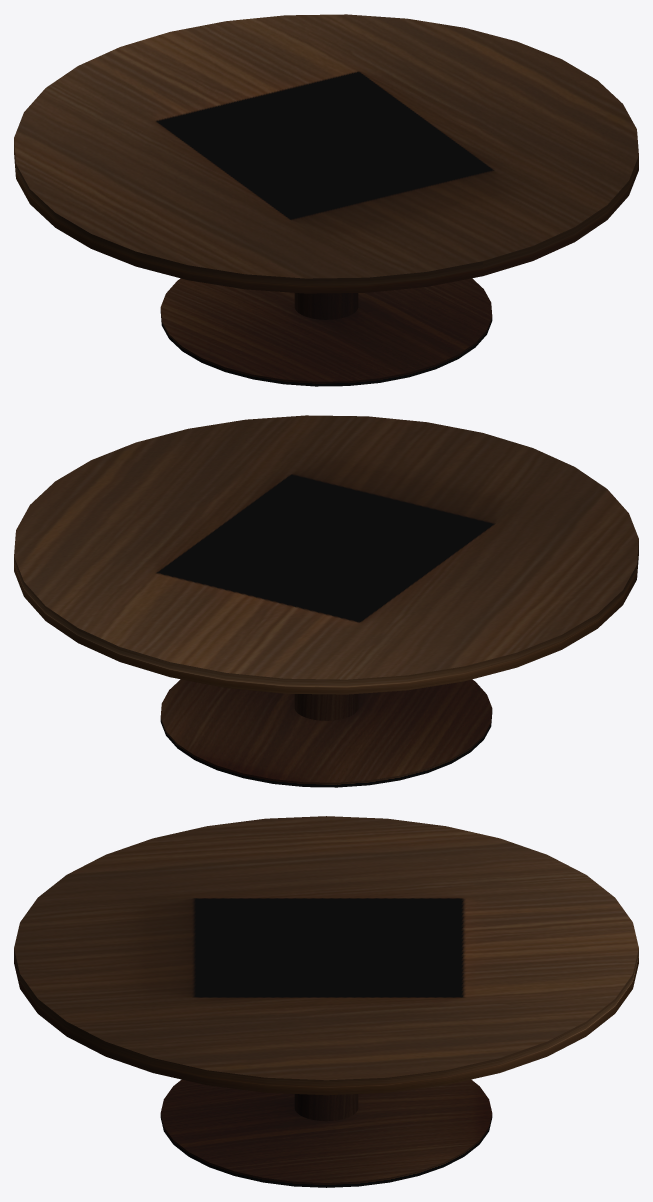
The picture shows the model from 3 angles, top to bottom: view 1: azimuth 30°, elevation 25°; view 2: azimuth 150°, elevation 25°; view 3: azimuth 270°, elevation 25°; orthographic projection.
Parts seen in each view (by area): view 1: Room; view 2: Room; view 3: Room.
Boxes of the visible parts, bbox=[...] form: Room: bbox=[14, 14, 638, 386]; Room: bbox=[14, 415, 638, 787]; Room: bbox=[14, 816, 638, 1187].
Size of the model in its own units: 8.8 by 2.64 by 8.8.
1 material, 1 textured.
